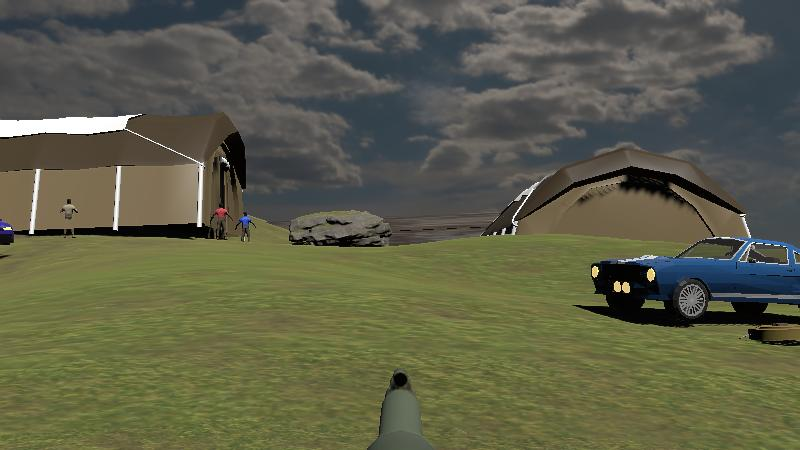Human: (57, 195, 82, 242), (208, 199, 233, 243), (234, 209, 258, 246)
car: (584, 230, 800, 328), (589, 231, 800, 329), (0, 210, 16, 258)
